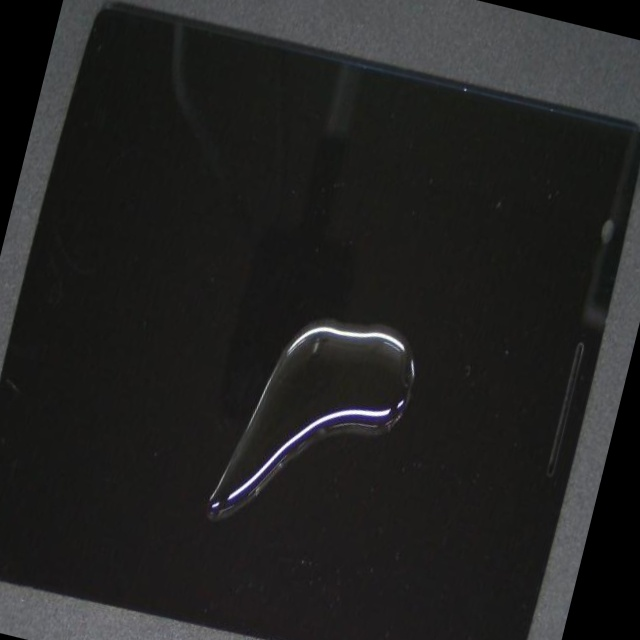oil: (142, 189, 640, 640)
